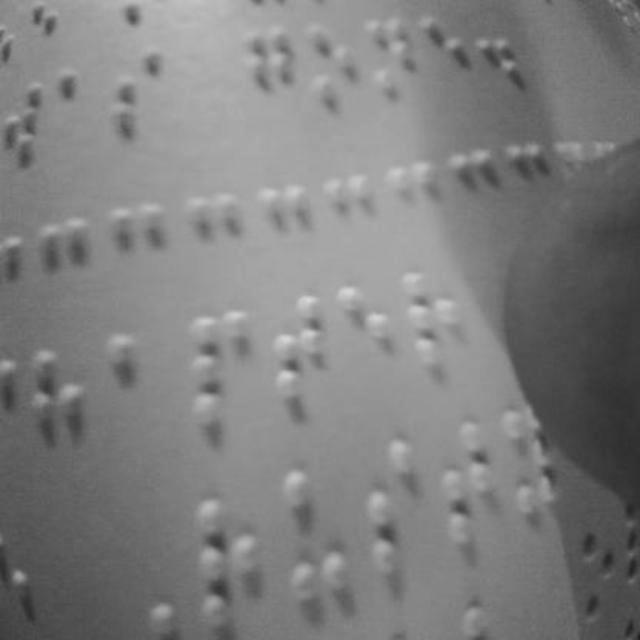braiile: (276, 463, 354, 615), (194, 492, 270, 640), (361, 432, 433, 586), (183, 304, 253, 440), (402, 263, 472, 392), (436, 412, 496, 558), (333, 276, 397, 412), (266, 288, 332, 418), (26, 349, 96, 467), (108, 326, 168, 454), (1, 76, 61, 188), (110, 37, 166, 155), (242, 20, 298, 126), (304, 22, 360, 120), (58, 61, 104, 168), (366, 12, 414, 112), (420, 11, 464, 101)
